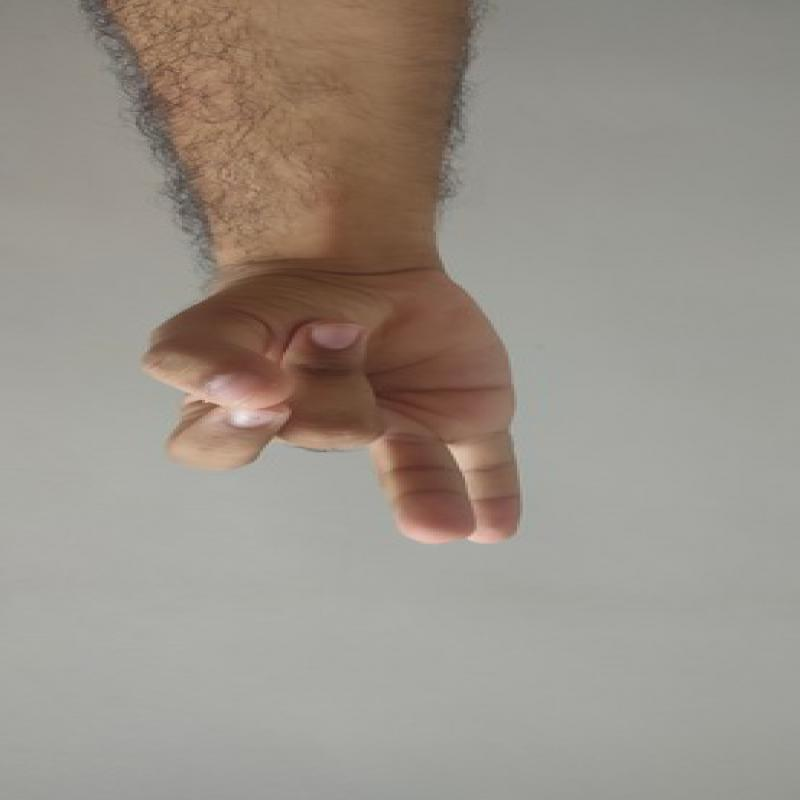Katakam: (121, 256, 561, 561)
